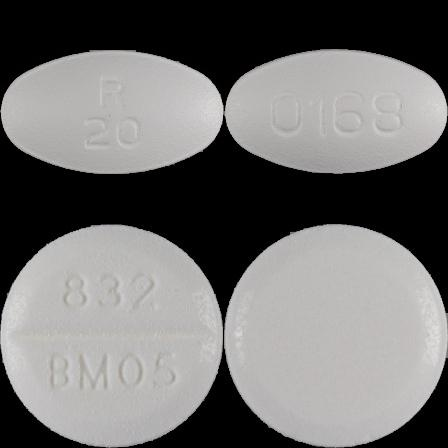0615-7673: (0, 0, 224, 224)
